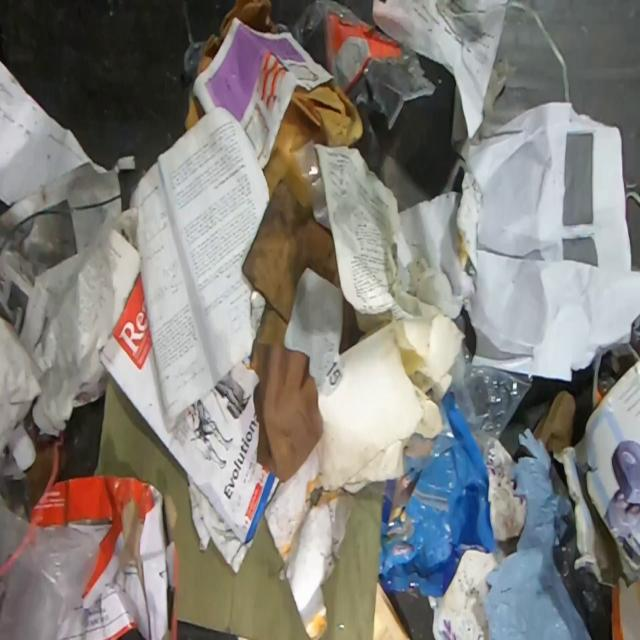cardboard: (93, 376, 386, 639), (241, 180, 362, 484), (30, 475, 178, 639), (258, 80, 366, 218), (194, 0, 277, 86), (184, 87, 205, 134)
rigid_plastic: (290, 0, 437, 175), (176, 1, 207, 87)
soft_plastic: (483, 427, 613, 639), (378, 387, 496, 596), (2, 503, 100, 640), (447, 339, 536, 460)
